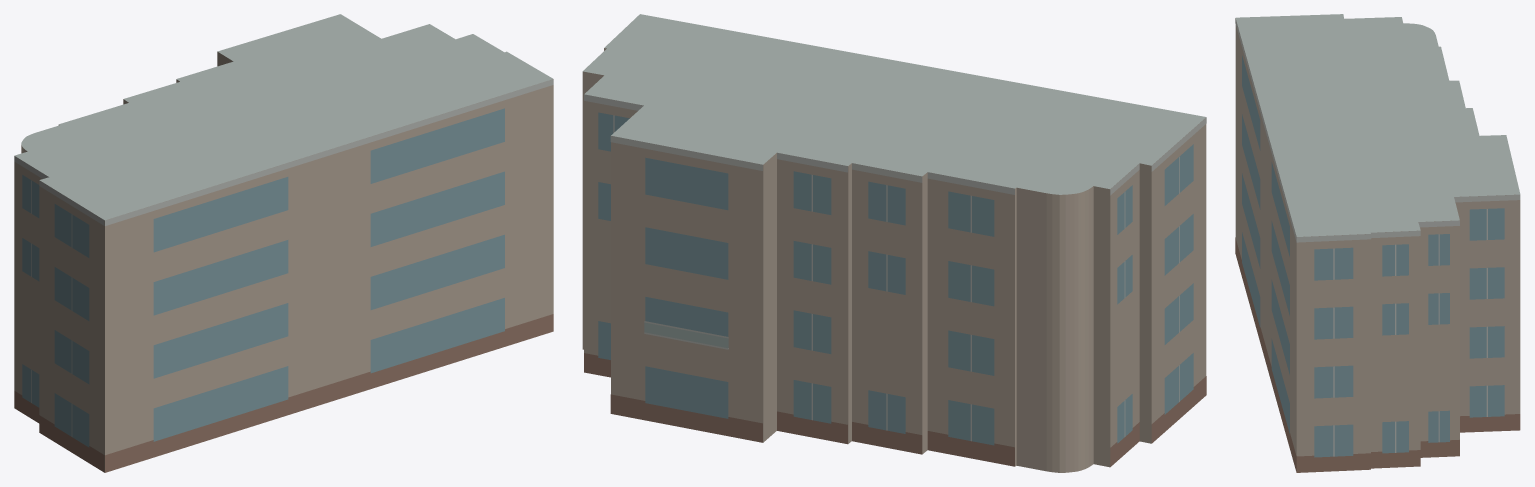
File: survey-upis-32667689.glb
3 renders of one model, left to right at view 1: azimuth 30°, elevation 25°; view 2: azimuth 150°, elevation 25°; view 3: azimuth 270°, elevation 25°, orthographic. The views are drawn at different scales.
Parts seen in each view (by area): view 1: survey-upis-32667689.tmp; view 2: survey-upis-32667689.tmp; view 3: survey-upis-32667689.tmp.
Boxes of the visible parts, x1,y1,x2,y2 form: survey-upis-32667689.tmp: [14, 14, 553, 472]; survey-upis-32667689.tmp: [582, 14, 1206, 472]; survey-upis-32667689.tmp: [1235, 14, 1520, 472].
Bounding box in the file's own units: 21.31 × 10.5 × 11.51.
